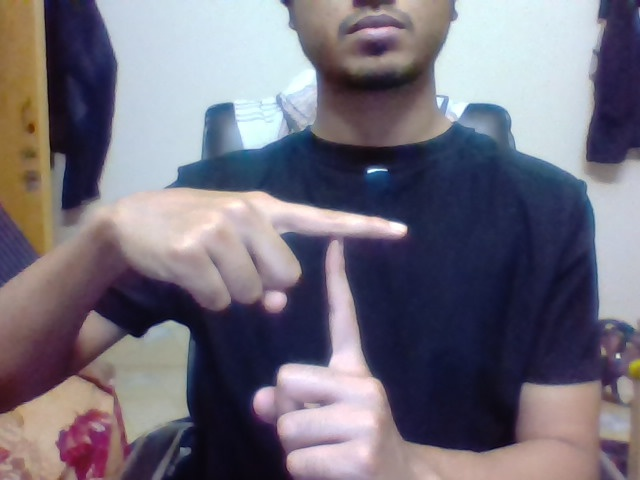T: (313, 194, 416, 343)
